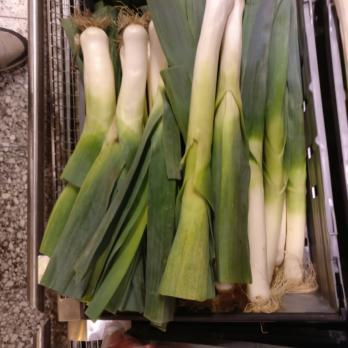Leek Leaves: (61, 0, 315, 308)
